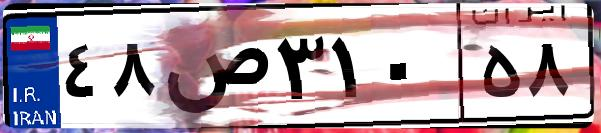0: (385, 28, 445, 110)
1: (330, 28, 385, 110)
3: (270, 28, 330, 110)
4: (57, 26, 110, 100)
5: (475, 38, 525, 113)
8: (525, 38, 570, 115), (110, 28, 158, 98)
ص: (158, 20, 270, 120)
